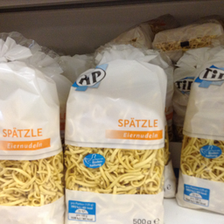pasta: (64, 54, 167, 223), (1, 61, 65, 224), (176, 53, 224, 212)
